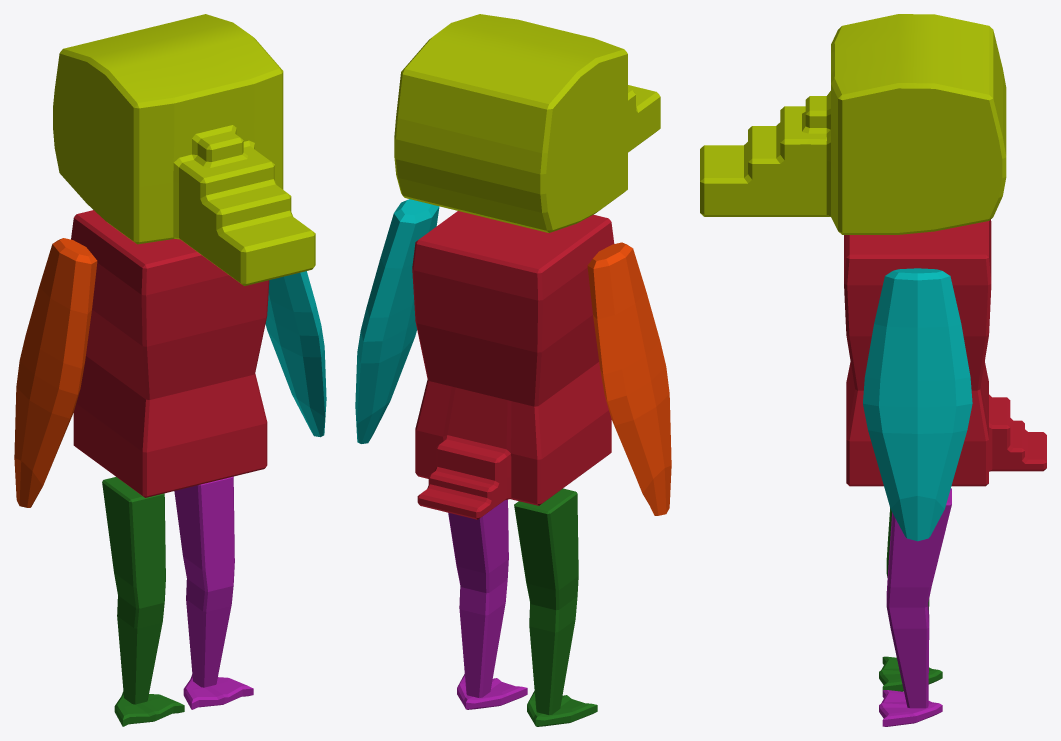
The model's file is PatoPlayer1.fbx.
3 renders of one model, left to right at view 1: azimuth 30°, elevation 25°; view 2: azimuth 150°, elevation 25°; view 3: azimuth 270°, elevation 25°, orthographic. The views are drawn at different scales.
Visible parts, largest first — view 1: pCube8, pCube9, pCylinder3, polySurface16, polySurface17, pCylinder2; view 2: pCube9, pCube8, pCylinder3, polySurface16, pCylinder2, polySurface17; view 3: pCube8, pCylinder2, pCube9, polySurface17, polySurface16.
Part boxes in pixels (x1,y1,x2,y2): pCube8: (53,14,315,285); pCube9: (71,210,269,497); pCylinder3: (14,238,97,507); polySurface16: (102,477,184,726); polySurface17: (174,476,253,709); pCylinder2: (265,271,326,437); pCube9: (412,211,614,519); pCube8: (394,14,660,232); pCylinder3: (587,242,671,515); polySurface16: (514,488,597,726); pCylinder2: (355,199,439,443); polySurface17: (448,499,527,709); pCube8: (700,14,1006,234); pCylinder2: (863,268,972,541); pCube9: (844,219,1046,486); polySurface17: (879,488,951,726); polySurface16: (879,508,942,691).
Size of the model in its own units: 112 by 232 by 113.
